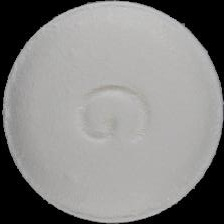53808-0218: (0, 0, 224, 224)
